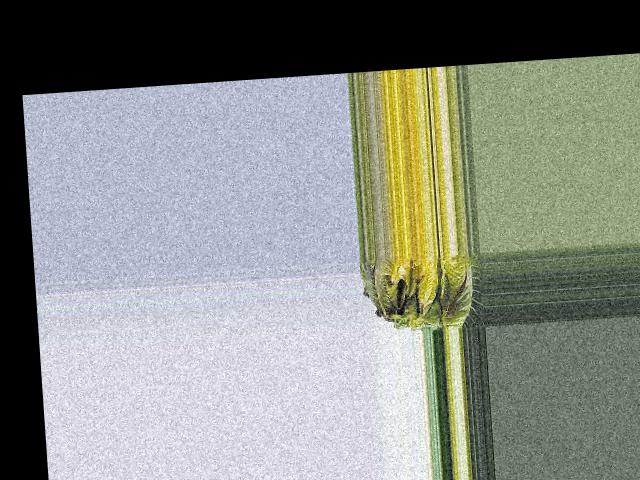lettuce: (363, 252, 485, 332)
